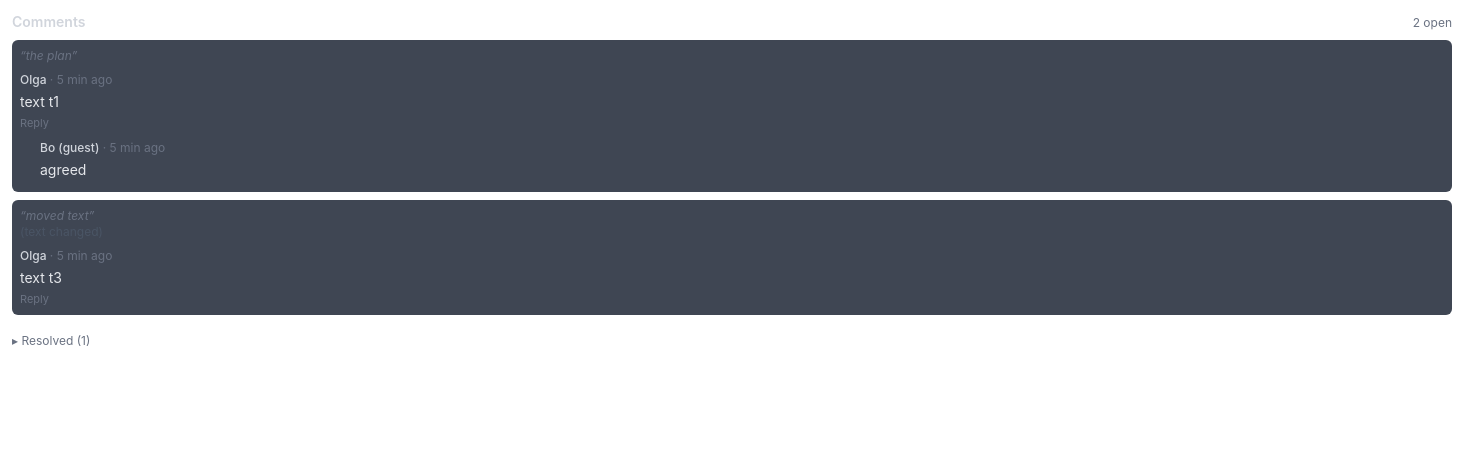
Scenario: Comments › lists open threads with the open count, the quote, replies, and resolved ones collapsed
expect the heading "Comments" is shown: met, box 12,12 -> 85,32
expect the text with test id "guest-comments-open" reads "2 open": met, box 1413,15 -> 1452,30
Click the button "▸ Resolved (1)". click: (51, 341)
box: 12,333 -> 90,349
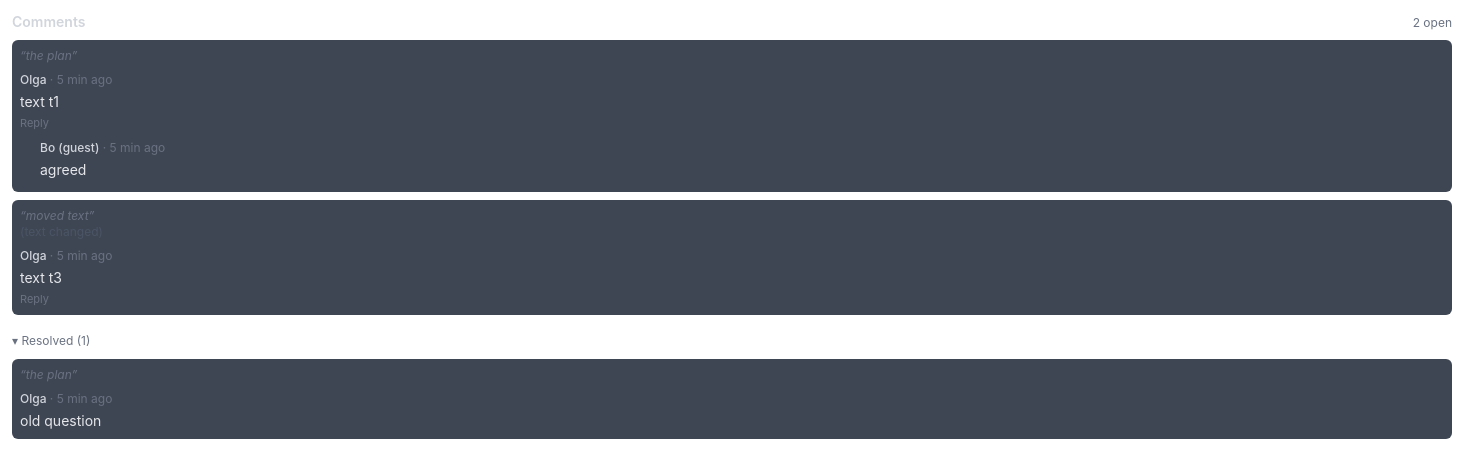
expect the text "old question" is shown: met, box 20,412 -> 101,429
